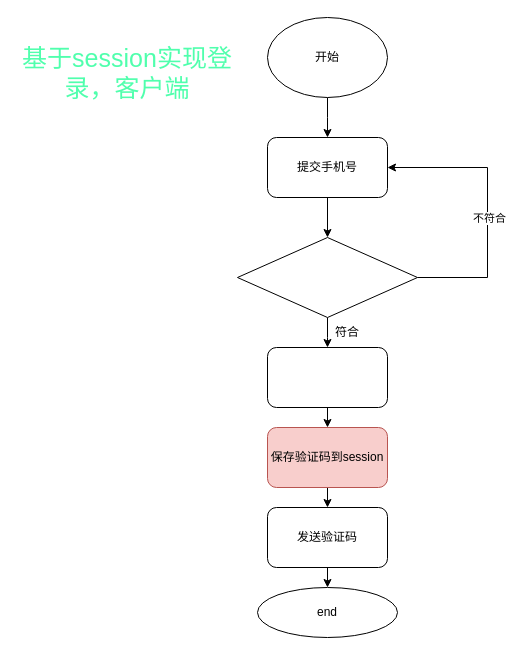
This 522x655 diagram has some shape labels left out. Each missing label, with the centre of its shape:
"校验手机号" belongs at (x=327, y=277).
"生成验证码" belongs at (x=327, y=377).
